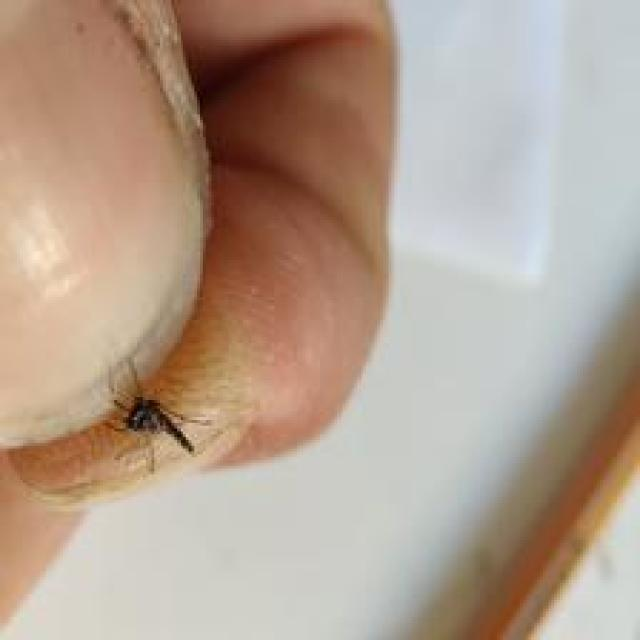Aedes albopictus: (103, 354, 211, 474)
